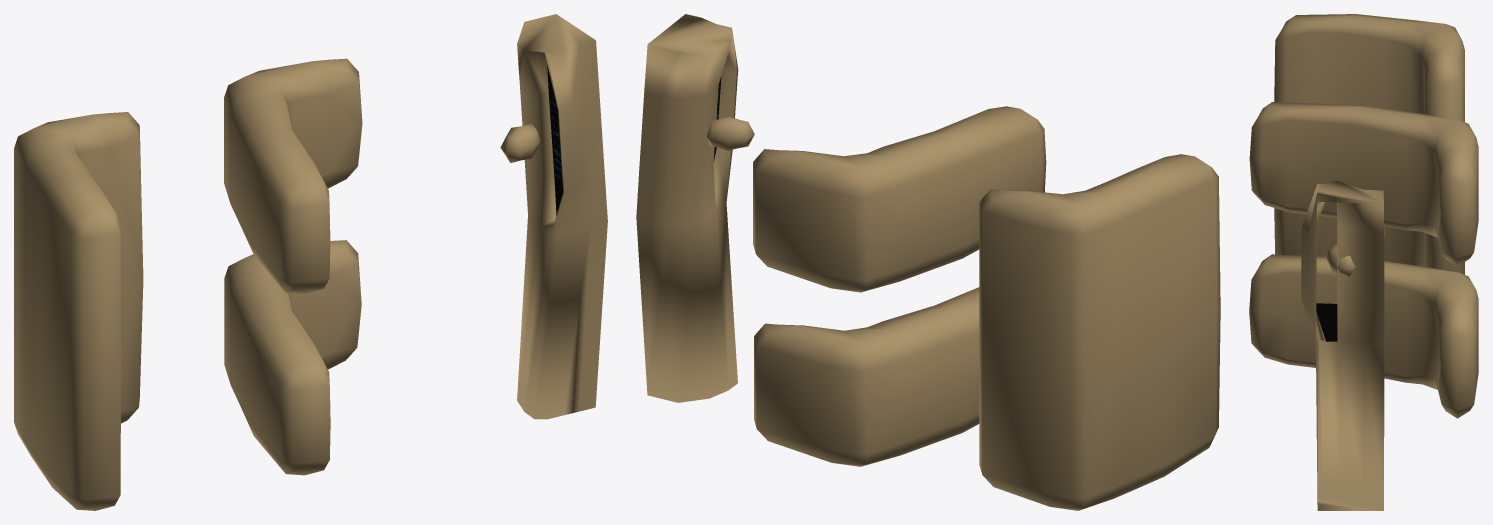
The model's file is interior.obj.
The picture shows the model from 3 angles, left to right: view 1: azimuth 30°, elevation 25°; view 2: azimuth 150°, elevation 25°; view 3: azimuth 270°, elevation 25°; orthographic projection. The views are drawn at different scales.
Visible parts, largest first — view 1: chair06, Box01, chair07, chair, steering_column, panel; view 2: chair06, chair07, Box01, chair, steering_column; view 3: chair07, chair06, Box01, chair, panel, steering_column.
Part boxes in pixels (box(x1,y1,x2,y2)): chair06: box(14, 112, 143, 510); Box01: box(517, 14, 607, 419); chair07: box(224, 58, 362, 293); chair: box(224, 240, 361, 475); steering_column: box(500, 123, 540, 162); panel: box(547, 65, 563, 215); chair06: box(979, 154, 1220, 510); chair07: box(753, 106, 1046, 292); Box01: box(636, 14, 738, 402); chair: box(754, 287, 979, 466); steering_column: box(707, 116, 754, 150); chair07: box(1249, 102, 1478, 266); chair06: box(1274, 14, 1464, 274); Box01: box(1301, 180, 1384, 510); chair: box(1249, 254, 1478, 418); panel: box(1316, 303, 1337, 341); steering_column: box(1325, 243, 1355, 276).
Bounding box in the file's own units: 1.89 × 1.21 × 0.8117.
3 materials, 1 textured.
